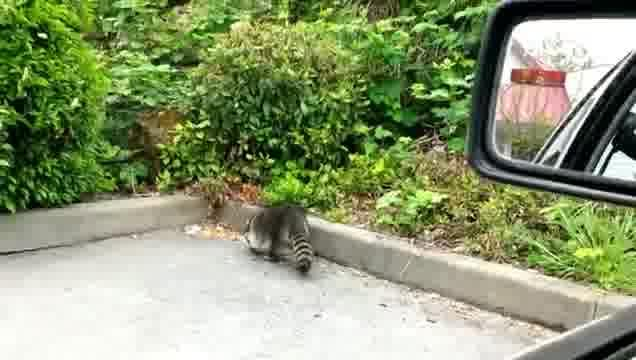raccoon: (240, 203, 322, 274)
